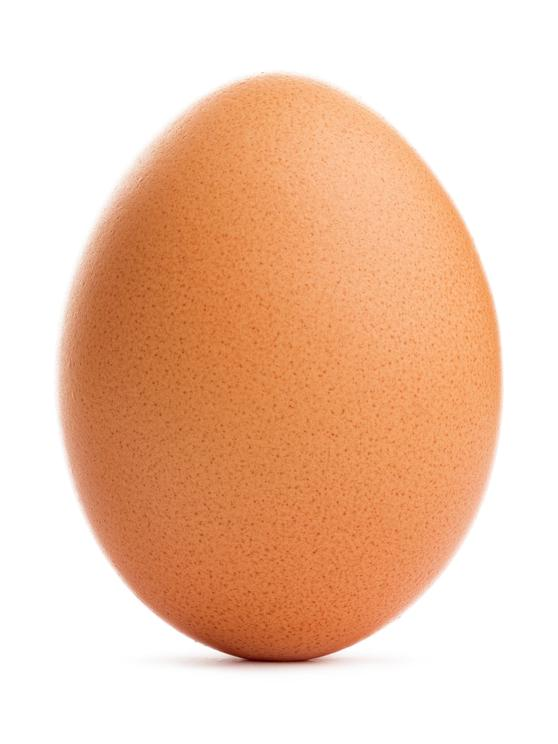egg: (61, 69, 504, 667)
